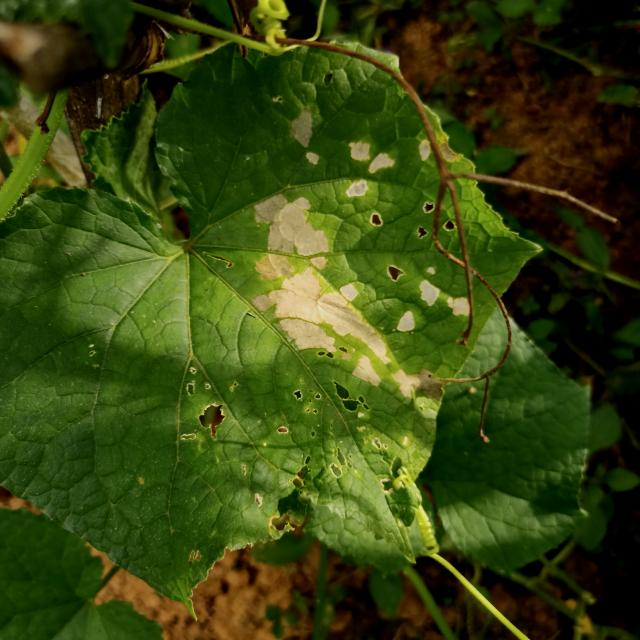disease_cucumber: (251, 110, 473, 398)
